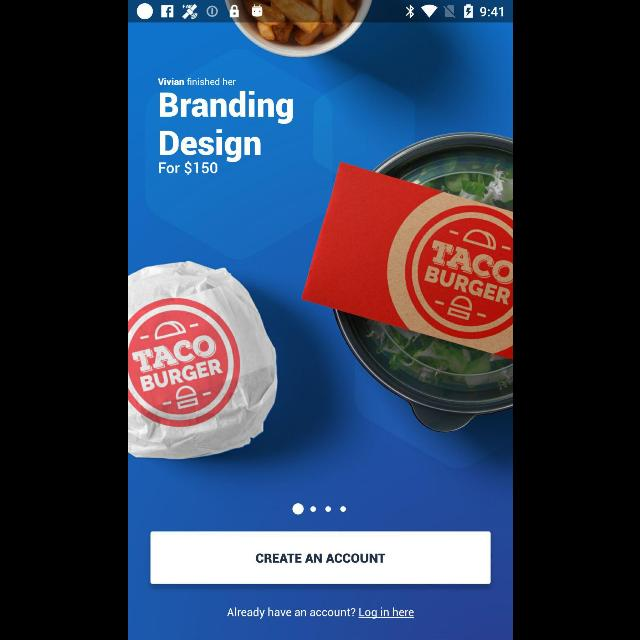backgroundimage: (128, 22, 512, 640)
pageindicator: (292, 502, 346, 516)
text: (158, 90, 292, 176), (226, 607, 414, 619), (157, 78, 235, 86)
textbutton: (150, 532, 490, 584)
uppertaskbar: (128, 1, 512, 23)
